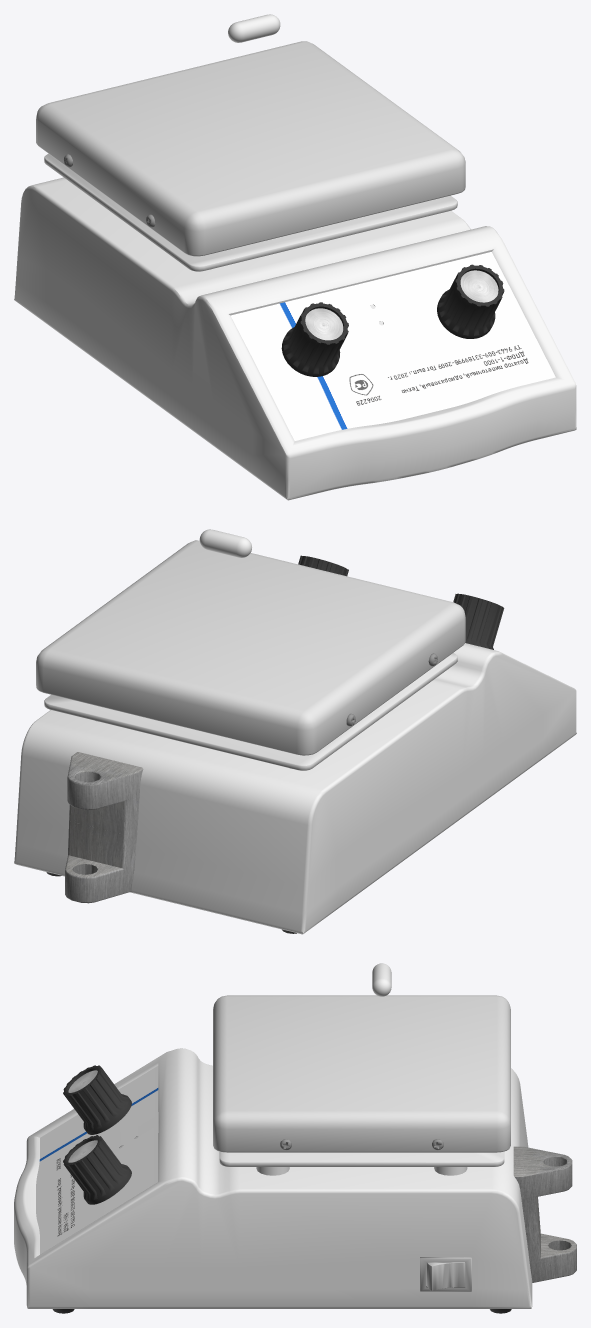
The model's file is Meshalka+Anchor.fbx.
The picture shows the model from 3 angles, top to bottom: view 1: azimuth 30°, elevation 25°; view 2: azimuth 150°, elevation 25°; view 3: azimuth 270°, elevation 25°; orthographic projection. The views are drawn at different scales.
Visible parts, largest first — view 1: Cube, Plane.002, Circle.001, Circle.002, Anchor; view 2: Cube, Plane.002, Plane.003, Circle.002, Anchor, Circle.001; view 3: Cube, Plane.002, Plane.003, Circle.001, Circle.002, PS-03.001, Anchor.
Part boxes in pixels (x1,y1,x2,y2): Cube: (14, 177, 576, 500); Plane.002: (36, 41, 465, 271); Circle.001: (437, 264, 504, 338); Circle.002: (281, 302, 348, 376); Anchor: (228, 14, 280, 42); Cube: (14, 643, 576, 934); Plane.002: (36, 540, 465, 933); Plane.003: (65, 752, 143, 903); Circle.002: (453, 593, 504, 649); Anchor: (199, 529, 251, 557); Circle.001: (298, 555, 348, 576); Cube: (14, 1048, 532, 1308); Plane.002: (52, 995, 511, 1313); Plane.003: (513, 1146, 576, 1282); Circle.001: (63, 1135, 131, 1204); Circle.002: (63, 1065, 131, 1134); PS-03.001: (426, 1262, 465, 1290); Anchor: (372, 963, 391, 996).
Size of the model in its own units: 129 by 130 by 227.
